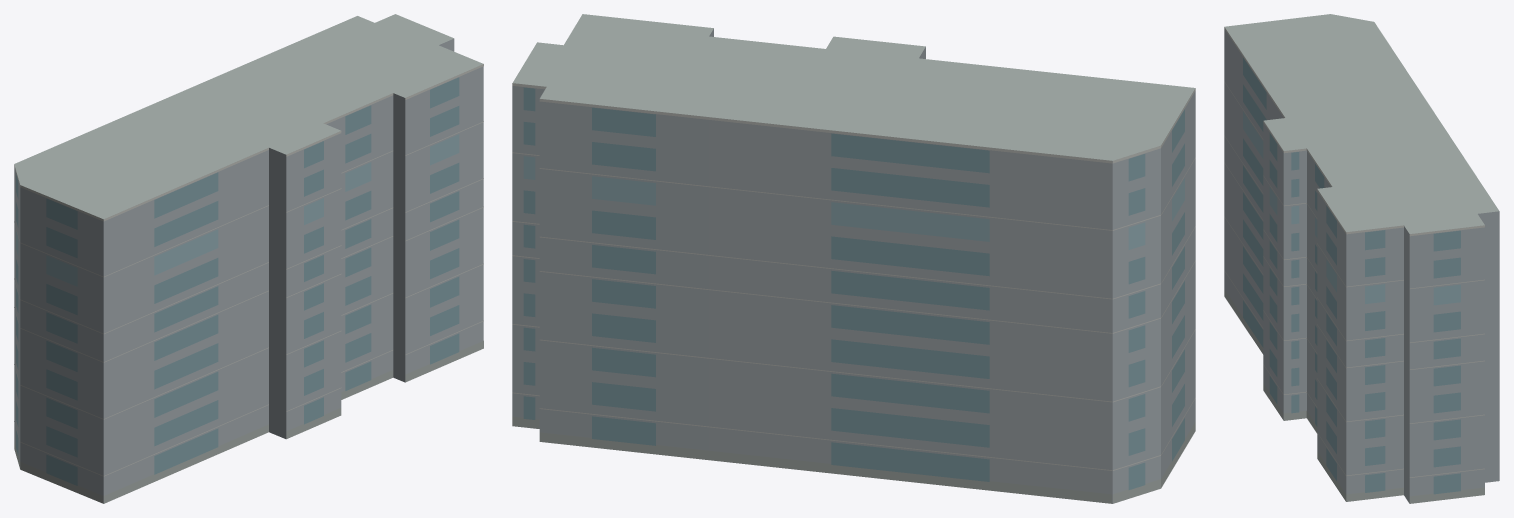
Rendered from residential-10678091-a21a-48de-80d9-82031fc8acb2.glb.
3 renders of one model, left to right at view 1: azimuth 30°, elevation 25°; view 2: azimuth 150°, elevation 25°; view 3: azimuth 270°, elevation 25°, orthographic. The views are drawn at different scales.
Parts seen in each view (by area): view 1: residential-10678091-a21a-48de-80d9-82031fc8acb2.tmp; view 2: residential-10678091-a21a-48de-80d9-82031fc8acb2.tmp; view 3: residential-10678091-a21a-48de-80d9-82031fc8acb2.tmp.
Part boxes in pixels (box(x1,y1,x2,y2)): residential-10678091-a21a-48de-80d9-82031fc8acb2.tmp: box(14, 14, 483, 503); residential-10678091-a21a-48de-80d9-82031fc8acb2.tmp: box(512, 14, 1195, 503); residential-10678091-a21a-48de-80d9-82031fc8acb2.tmp: box(1224, 14, 1499, 503).
Size of the model in its own units: 53.39 by 30.5 by 28.22.
